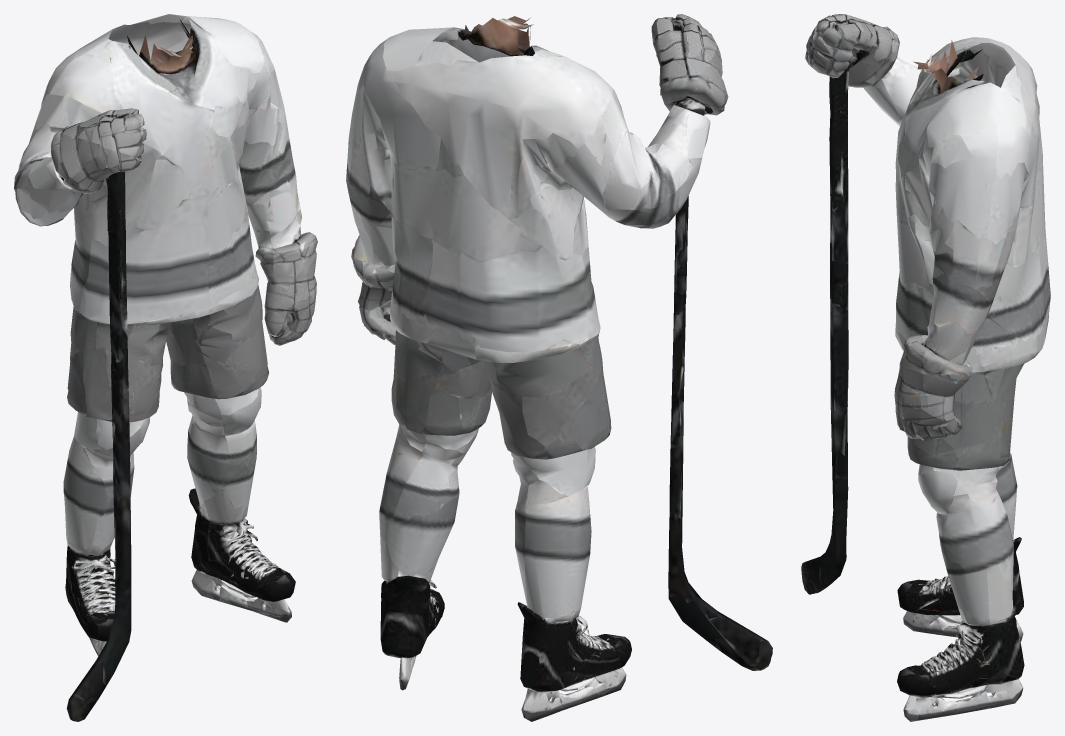
File: body_standing_low.glb
The picture shows the model from 3 angles, left to right: view 1: azimuth 30°, elevation 25°; view 2: azimuth 150°, elevation 25°; view 3: azimuth 270°, elevation 25°; orthographic projection. The views are drawn at different scales.
Visible parts, largest first — view 1: body; view 2: body; view 3: body.
Part boxes in pixels (x1,y1,x2,y2): body: (14,14,317,721); body: (346,14,772,721); body: (801,14,1050,721).
Bounding box in the file's own units: 0.89 × 1.65 × 0.5996.
Materials: 1 (1 with a texture image).
